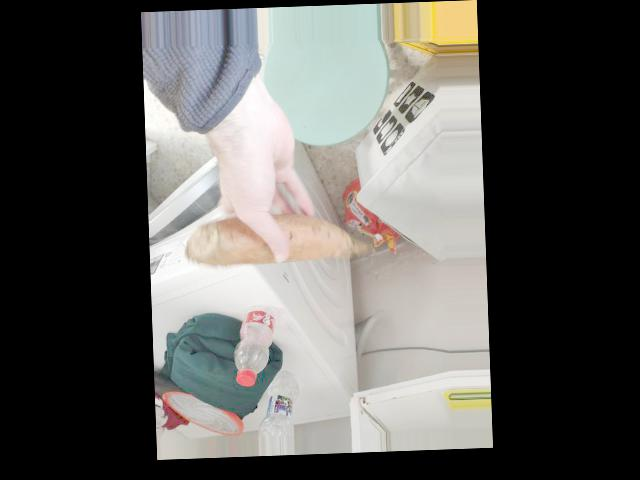sweet_potato: (202, 212, 360, 265)
